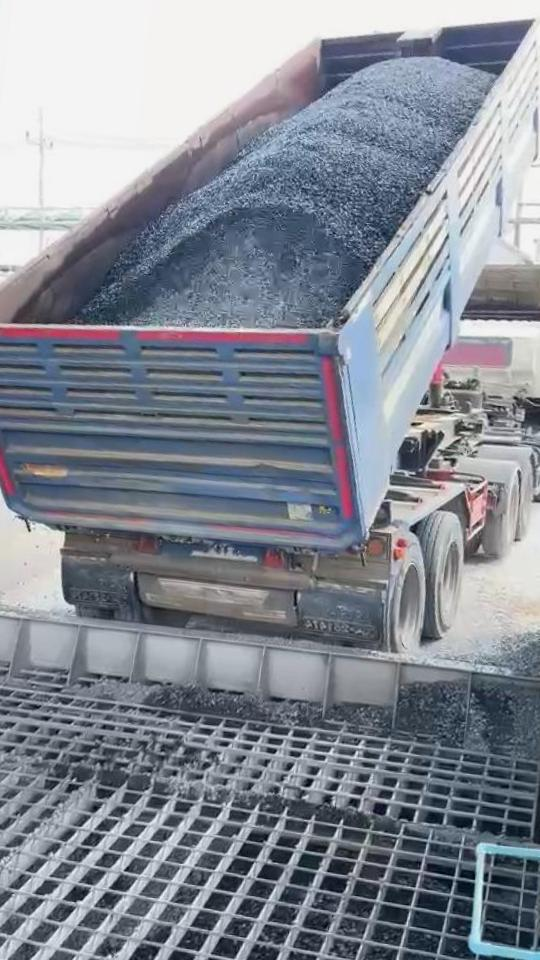gravel: (79, 57, 492, 327), (397, 629, 540, 755), (75, 680, 391, 734), (0, 578, 38, 617)
